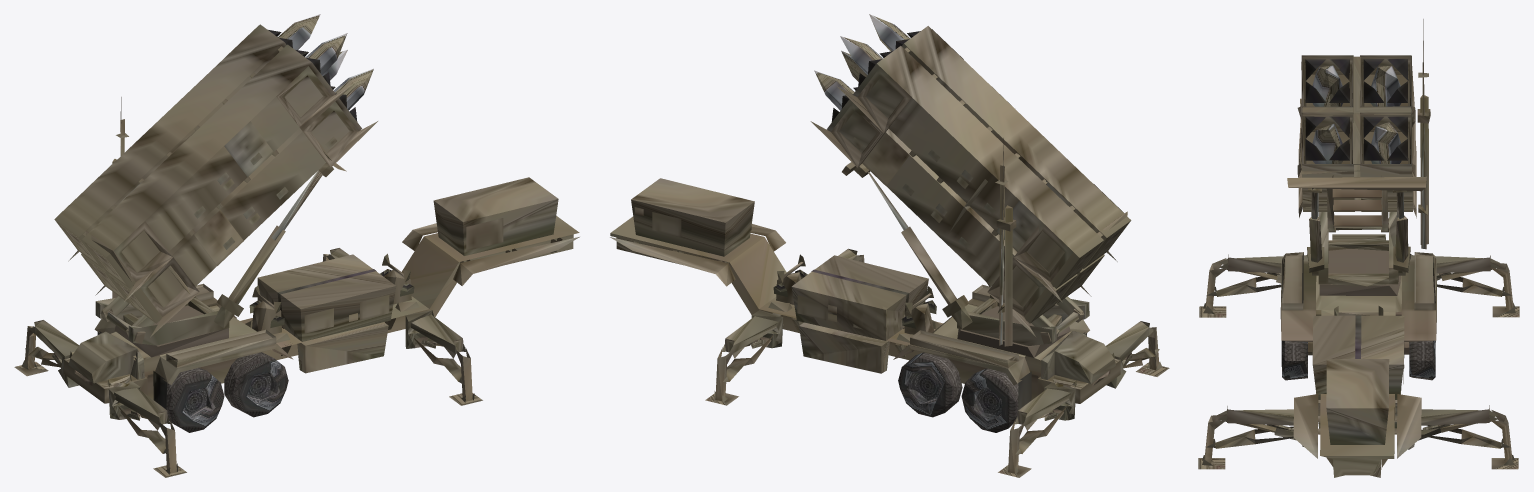
3 renders of one model, left to right at view 1: azimuth 30°, elevation 25°; view 2: azimuth 150°, elevation 25°; view 3: azimuth 270°, elevation 25°, orthographic. The views are drawn at different scales.
Parts seen in each view (by area): view 1: Object_3, Object_2; view 2: Object_3, Object_2; view 3: Object_3, Object_2.
Boxes of the visible parts, x1=… form: Object_3: x1=14, y1=14, x2=579, y2=477; Object_2: x1=166, y1=352, x2=288, y2=432; Object_3: x1=610, y1=14, x2=1169, y2=477; Object_2: x1=898, y1=352, x2=1018, y2=432; Object_3: x1=1198, y1=19, x2=1519, y2=477; Object_2: x1=1281, y1=340, x2=1435, y2=380.
Bounding box in the file's own units: 1020 × 694 × 558.
Materials: 2 (2 with a texture image).
